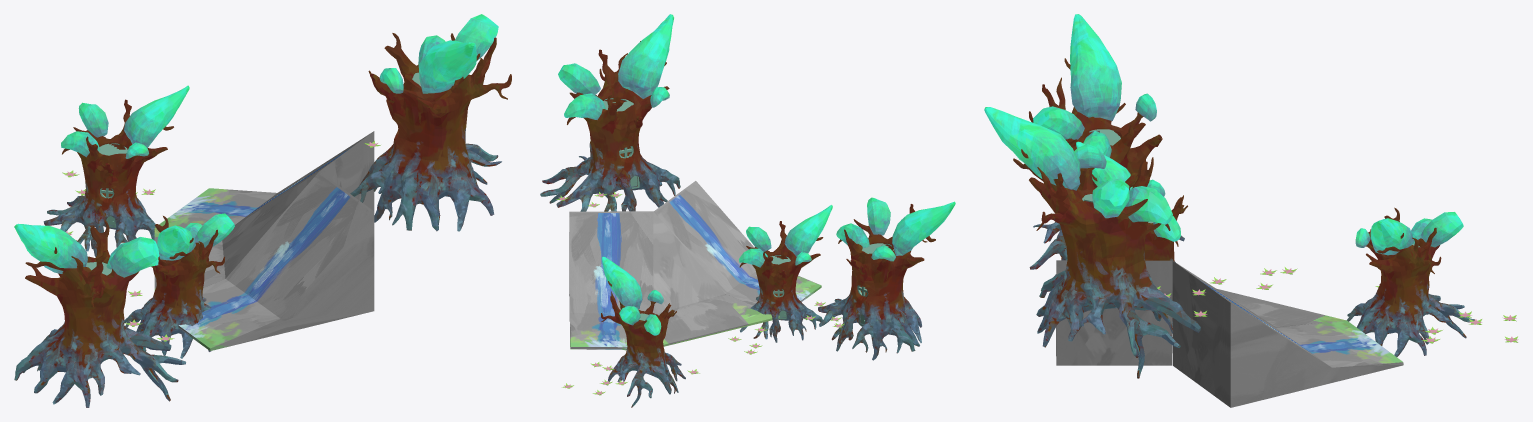
Rendered from beavervillagelandmark.glb.
The picture shows the model from 3 angles, left to right: view 1: azimuth 30°, elevation 25°; view 2: azimuth 150°, elevation 25°; view 3: azimuth 270°, elevation 25°; orthographic projection. The views are drawn at different scales.
Visible parts, largest first — view 1: Cube.001, Beaver_House_Retopology, Beaver_House_Retopology.001, Beaver_House_Retopology.003, Beaver_House_Retopology.002, Cube.002, Beaver_House_Foliage_Retopology, Beaver_House_Foliage_Retopology.001, Beaver_House_Foliage_Retopology.003, module-face_land.001, Beaver_House_Foliage_Retopology.002, Beaver_House_Misc.003; view 2: Cube.002, Beaver_House_Retopology, Beaver_House_Retopology.001, module-face_land.001, Cube.001, Beaver_House_Foliage_Retopology, Beaver_House_Retopology.003, Beaver_House_Retopology.002, Beaver_House_Foliage_Retopology.001, Beaver_House_Foliage_Retopology.002, Beaver_House_Foliage_Retopology.003, Beaver_House_Misc; view 3: Cube.002, Beaver_House_Retopology, Beaver_House_Retopology.003, Beaver_House_Foliage_Retopology, Beaver_House_Foliage_Retopology.001, Cube.001, Beaver_House_Retopology.001, Beaver_House_Foliage_Retopology.003, module-face_land.001, Beaver_House_Foliage_Retopology.002, Beaver_House_Retopology.002.
Boxes of the visible parts, x1,y1,x2,y2 form: Cube.001: (178,171,374,350); Beaver_House_Retopology: (350,33,511,231); Beaver_House_Retopology.001: (14,219,185,407); Beaver_House_Retopology.003: (43,99,173,256); Beaver_House_Retopology.002: (124,216,224,358); Cube.002: (154,131,374,231); Beaver_House_Foliage_Retopology: (379,14,498,93); Beaver_House_Foliage_Retopology.001: (14,223,159,277); Beaver_House_Foliage_Retopology.003: (61,85,189,158); module-face_land.001: (154,172,318,290); Beaver_House_Foliage_Retopology.002: (157,213,234,260); Beaver_House_Misc.003: (98,143,127,227); Cube.002: (569,211,653,350); Beaver_House_Retopology: (540,41,680,211); Beaver_House_Retopology.001: (818,204,935,360); module-face_land.001: (653,212,779,346); Cube.001: (653,181,821,305); Beaver_House_Foliage_Retopology: (558,14,673,119); Beaver_House_Retopology.003: (601,281,685,407); Beaver_House_Retopology.002: (739,221,823,342); Beaver_House_Foliage_Retopology.001: (836,197,955,261); Beaver_House_Foliage_Retopology.002: (739,205,832,267); Beaver_House_Foliage_Retopology.003: (602,256,663,335); Beaver_House_Misc: (603,98,639,188); Cube.002: (1172,261,1403,407); Beaver_House_Retopology: (1013,149,1200,378); Beaver_House_Retopology.003: (1347,207,1474,356); Beaver_House_Foliage_Retopology: (984,107,1172,224); Beaver_House_Foliage_Retopology.001: (1033,14,1156,157); Cube.001: (1056,260,1172,365); Beaver_House_Retopology.001: (1029,58,1184,290); Beaver_House_Foliage_Retopology.003: (1355,212,1463,255); module-face_land.001: (1183,267,1345,327); Beaver_House_Foliage_Retopology.002: (1076,141,1180,241); Beaver_House_Retopology.002: (1092,174,1187,326).
Size of the model in its own units: 2.69 by 1.56 by 2.31.
50 materials, 9 textured.
